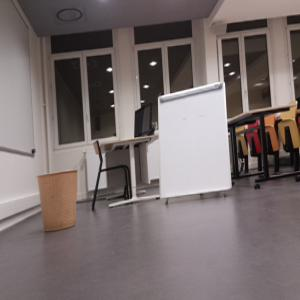big: (157, 84, 231, 198)
medium: (37, 169, 78, 231)
